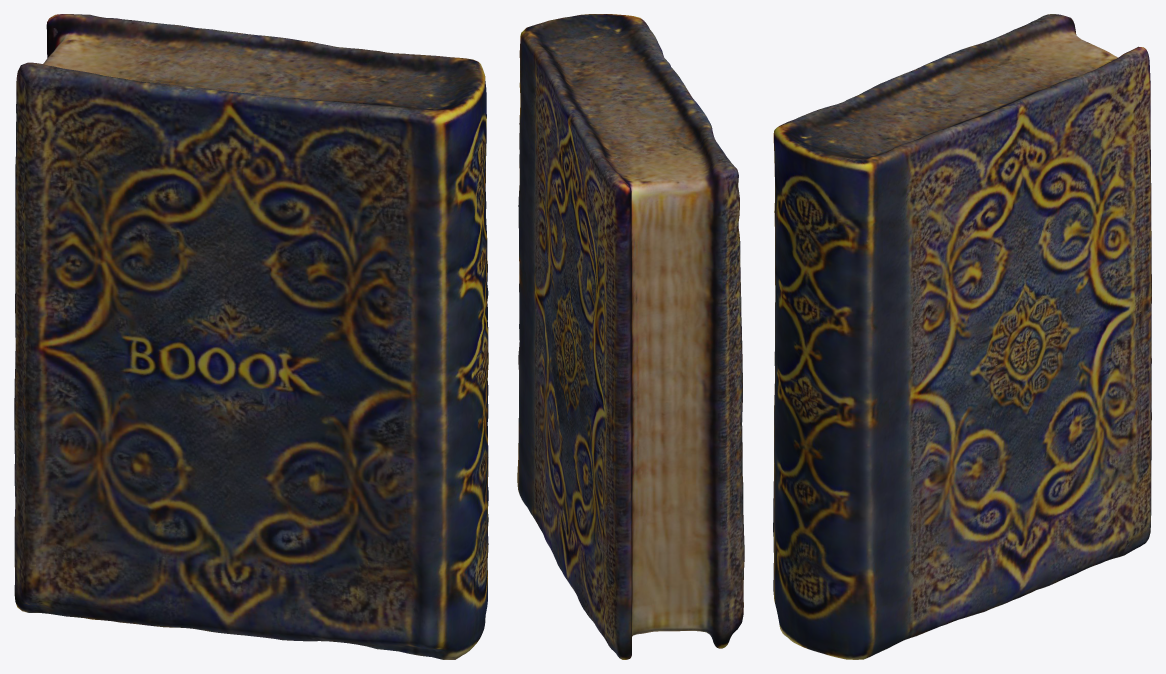
File: 56a8b36452db_book_min.fbx
3 views of the same model, side by side, from view 1: azimuth 30°, elevation 25°; view 2: azimuth 150°, elevation 25°; view 3: azimuth 270°, elevation 25° (orthographic). The views are drawn at different scales.
Parts seen in each view (by area): view 1: mesh; view 2: mesh; view 3: mesh.
Part boxes in pixels (x1,y1,x2,y2): mesh: [14, 14, 488, 659]; mesh: [517, 14, 744, 659]; mesh: [773, 14, 1151, 659].
Bounding box in the file's own units: 67.2 × 99.86 × 68.32.
